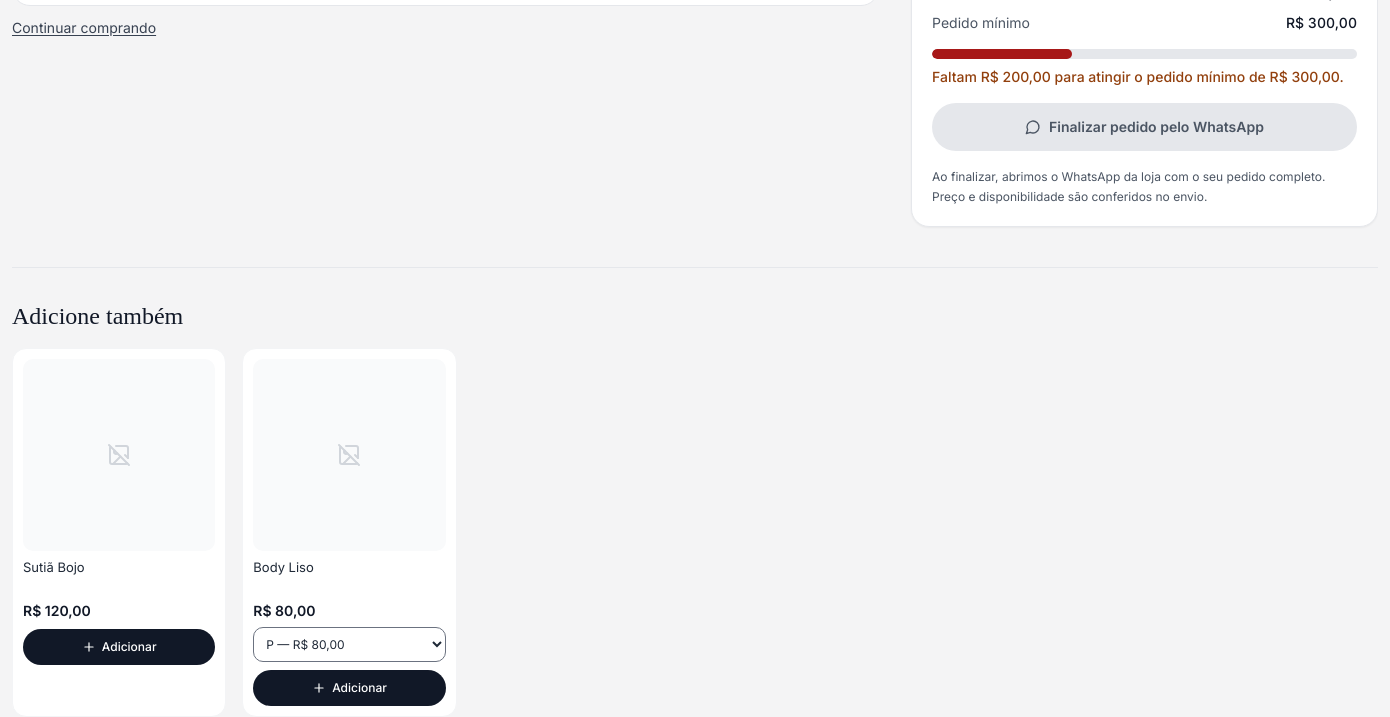
pedido mínimo e finalização pelo WhatsApp › abaixo do mínimo: aviso com o quanto falta e envio bloqueado; ao atingir, libera
(page scrolled)
Expected: the text "Faltam R$ 200,00 para atingir o pedido mínimo de R$ 300,00." is shown, [932,67,1357,87]
Expected: the button "Finalizar pedido pelo WhatsApp" is disabled, [932,103,1357,151]
+ Sutiã (120) → 220: ainda falta 80
Click the button "Adicionar" below "Sutiã Bojo". click: (119,647)
box: [23,629,215,665]
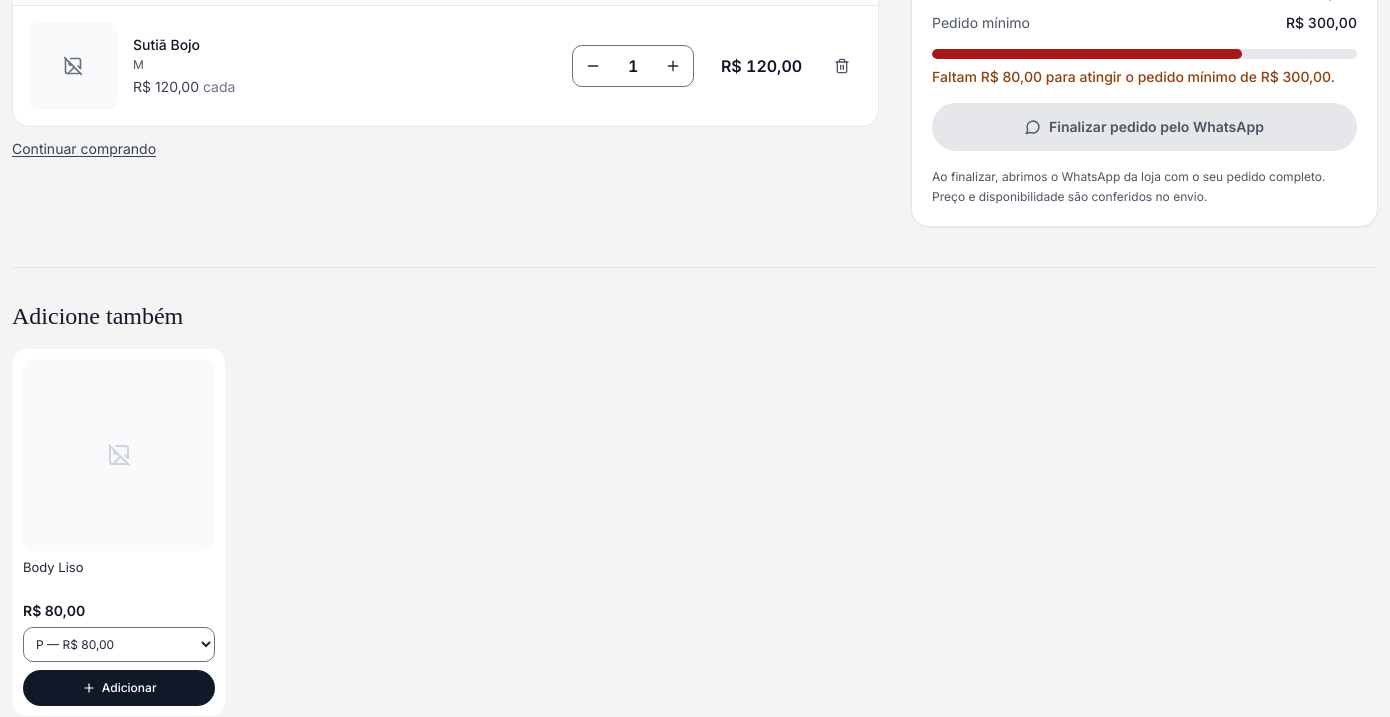
Expected: the button "Finalizar pedido pelo WhatsApp" is disabled, [932,103,1357,151]
+ Body P (80) → 300: exatamente o mínimo libera
Click the button "Adicionar". click: (119,688)
box: [23,670,215,706]
(page scrolled)
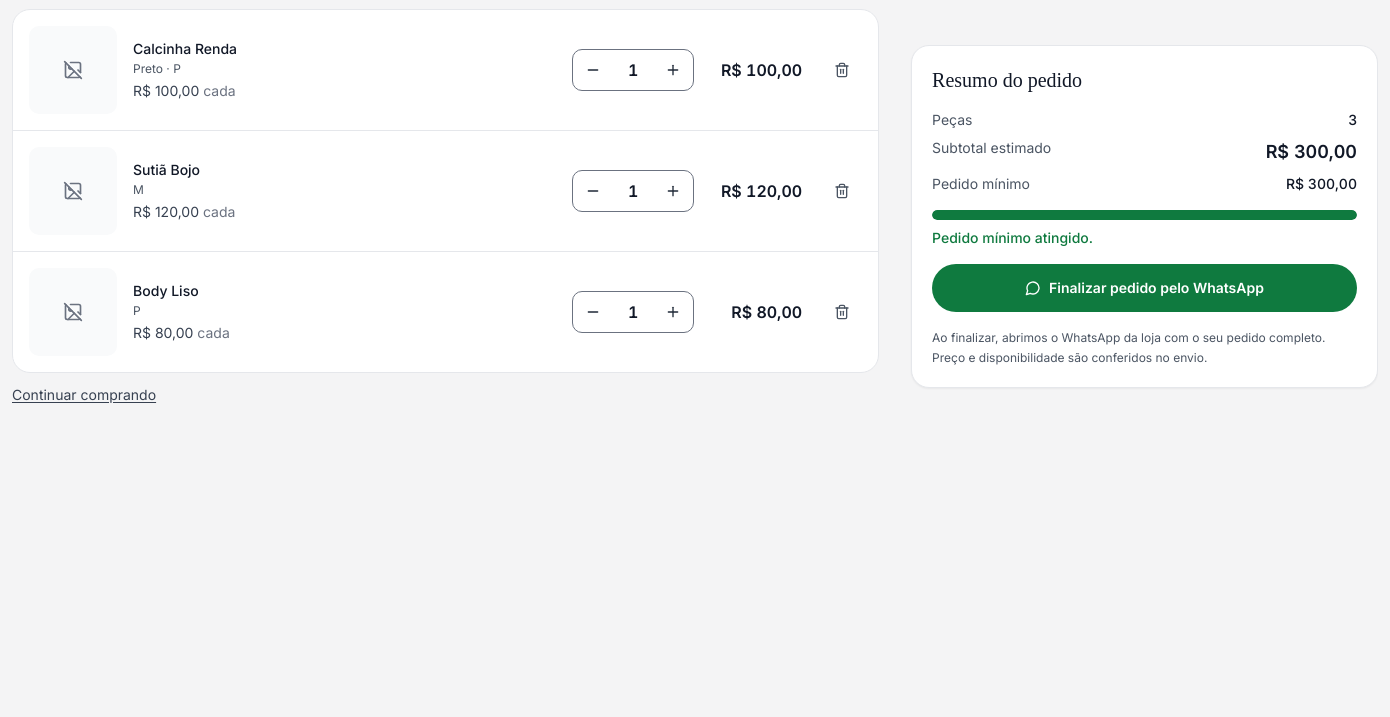
Expected: the text "Faltam" is gone
Expected: the button "Finalizar pedido pelo WhatsApp" is enabled, [932,264,1357,312]
